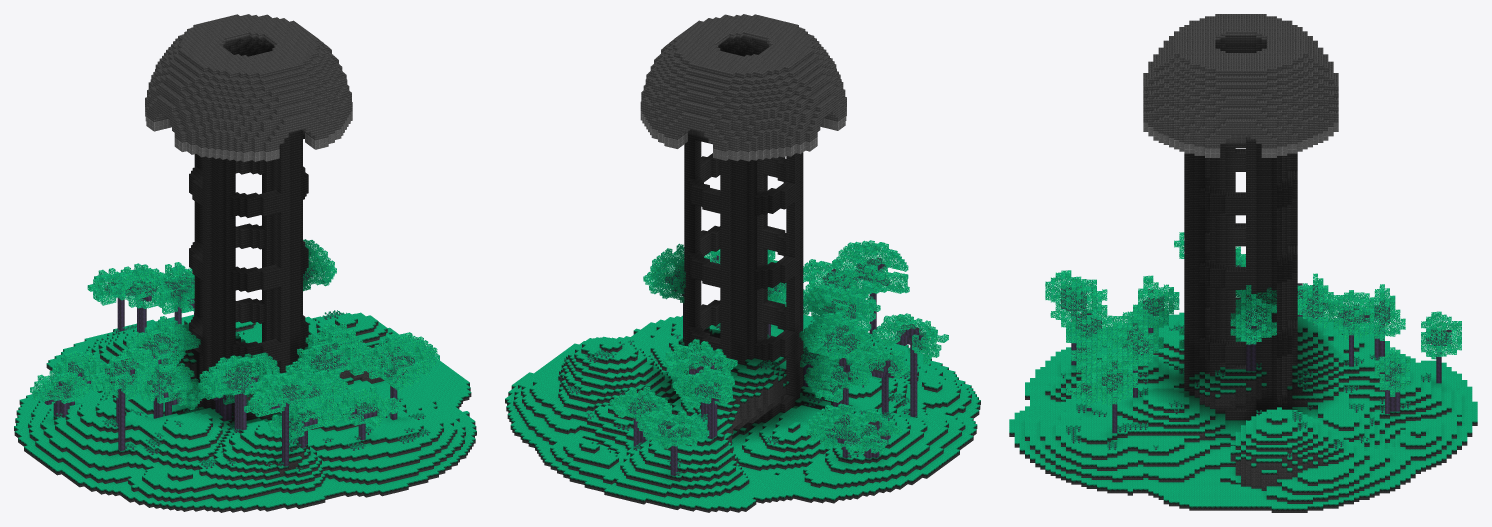
The model's file is tower.glb.
3 renders of one model, left to right at view 1: azimuth 30°, elevation 25°; view 2: azimuth 150°, elevation 25°; view 3: azimuth 270°, elevation 25°, orthographic.
Bounding box in the file's own units: 91 × 80 × 91.
2 materials, 2 textured.
